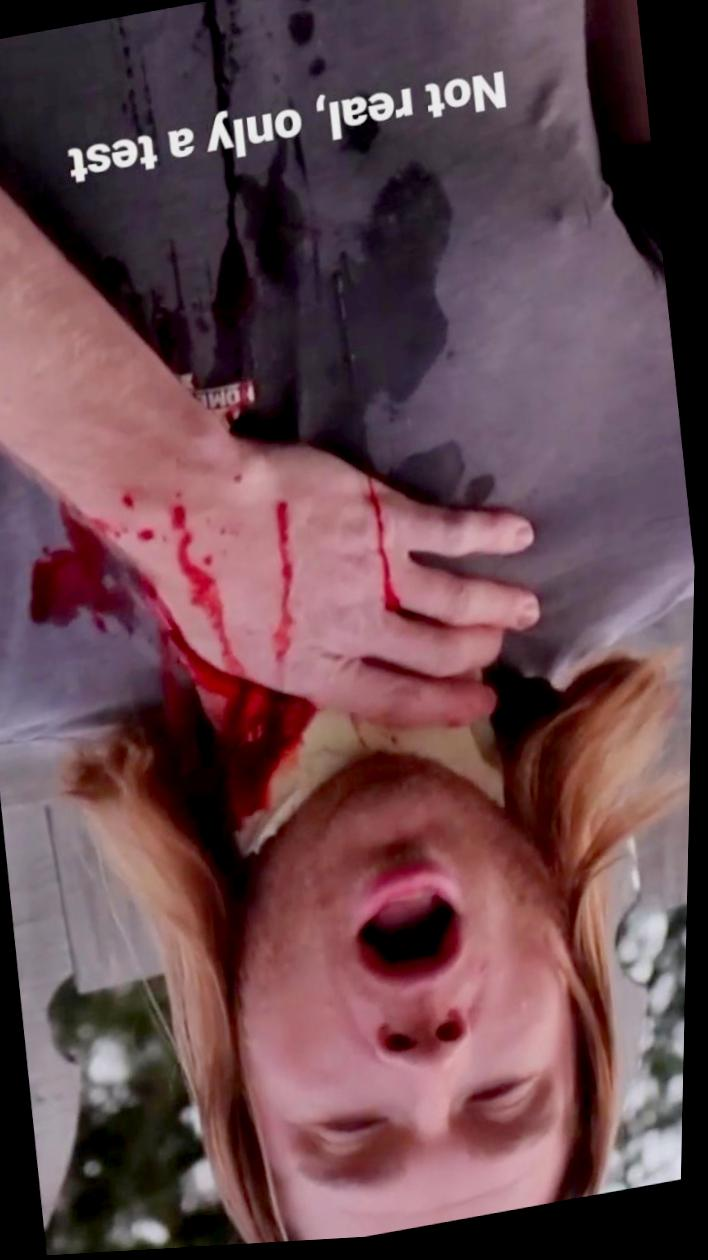Fire: (33, 506, 320, 823), (114, 449, 413, 708)
